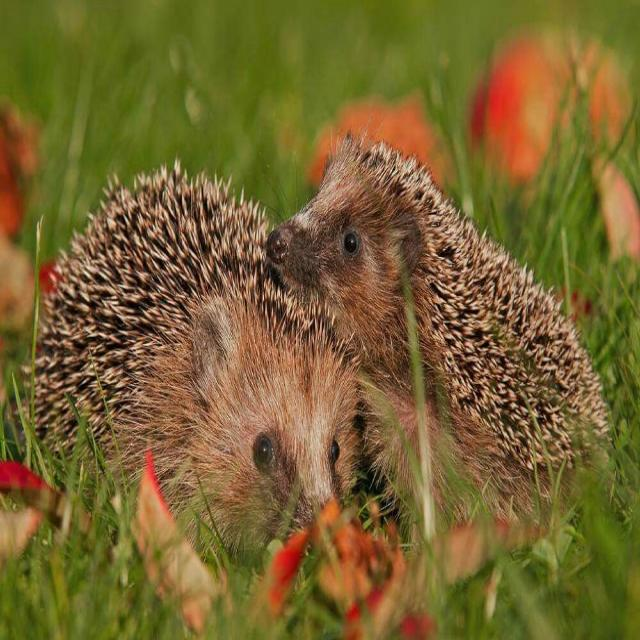Hedgehog: (268, 136, 616, 543), (36, 170, 350, 532)
